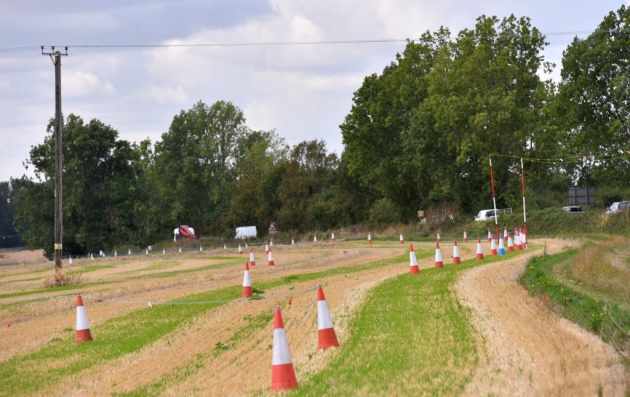cone: (259, 305, 305, 392), (309, 284, 341, 353), (68, 290, 98, 344), (237, 263, 259, 301), (401, 243, 425, 274), (423, 239, 447, 270), (441, 238, 465, 269), (465, 232, 489, 263), (479, 232, 503, 263), (493, 227, 517, 258), (484, 228, 508, 259), (247, 247, 257, 267), (266, 248, 276, 266)
